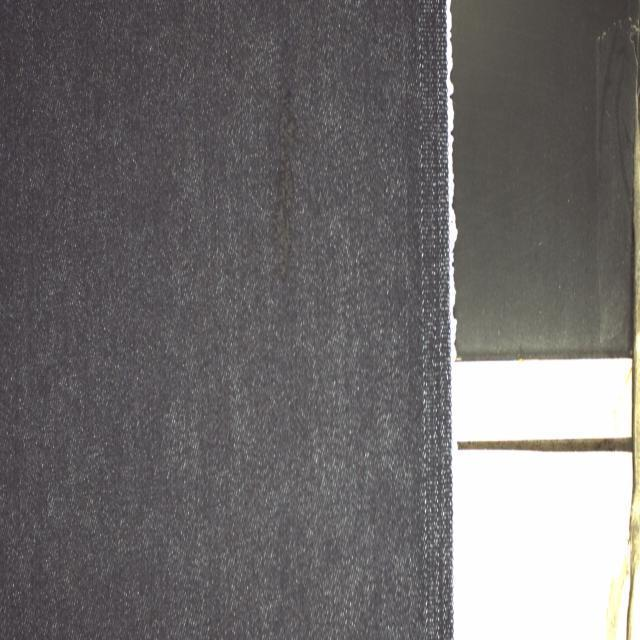Stain: (271, 87, 298, 290)
